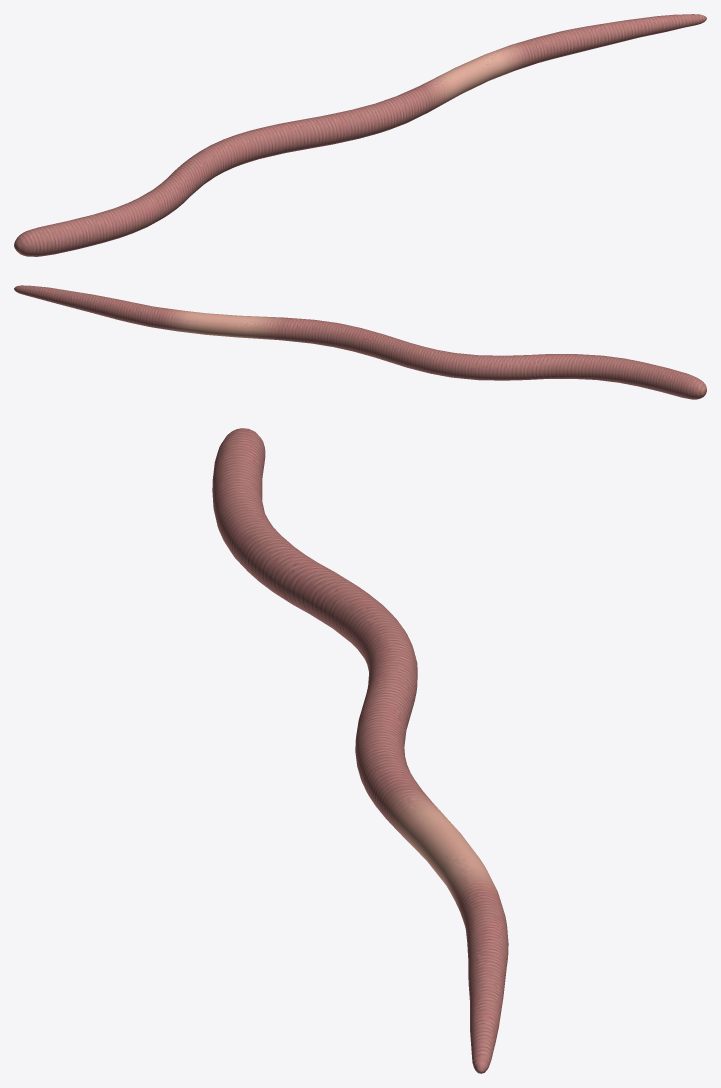
File: worm.glb
3 renders of one model, top to bottom at view 1: azimuth 30°, elevation 25°; view 2: azimuth 150°, elevation 25°; view 3: azimuth 270°, elevation 25°, orthographic. The views are drawn at different scales.
Visible parts, largest first — view 1: worm; view 2: worm; view 3: worm.
Part boxes in pixels (bbox=[...]): worm: bbox=[14, 14, 706, 256]; worm: bbox=[14, 285, 706, 399]; worm: bbox=[212, 428, 508, 1073].
Size of the model in its own units: 0.12 by 0.00412 by 0.0243.
Materials: 1 (1 with a texture image).
